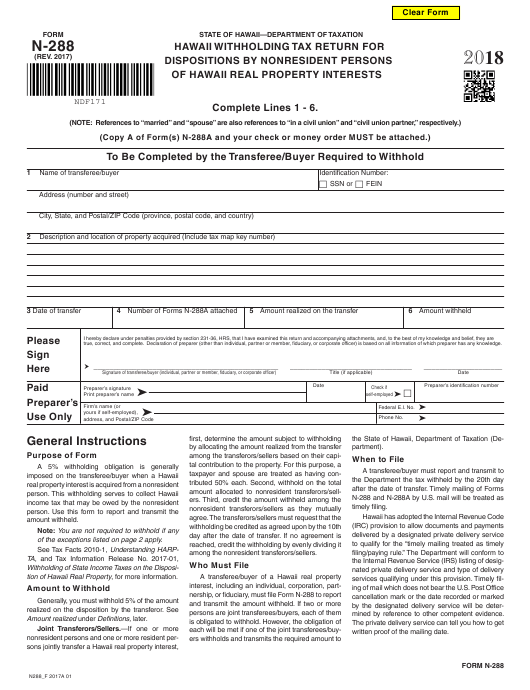checkbox: (317, 178, 328, 188), (354, 178, 364, 188), (402, 387, 412, 397)
textbox: (22, 188, 507, 216), (22, 207, 507, 235), (22, 166, 322, 192), (242, 304, 406, 330), (152, 399, 380, 416), (152, 409, 380, 426), (110, 304, 247, 331), (401, 304, 507, 330), (147, 379, 309, 395), (147, 388, 309, 404), (23, 304, 116, 331), (412, 378, 505, 404), (374, 400, 506, 416), (374, 410, 506, 426), (304, 379, 368, 405)
textline: (25, 246, 507, 258), (25, 255, 507, 267), (24, 266, 506, 278), (24, 277, 506, 289), (25, 288, 507, 300), (25, 238, 502, 246), (91, 355, 279, 372), (287, 355, 415, 371), (420, 355, 506, 372)
